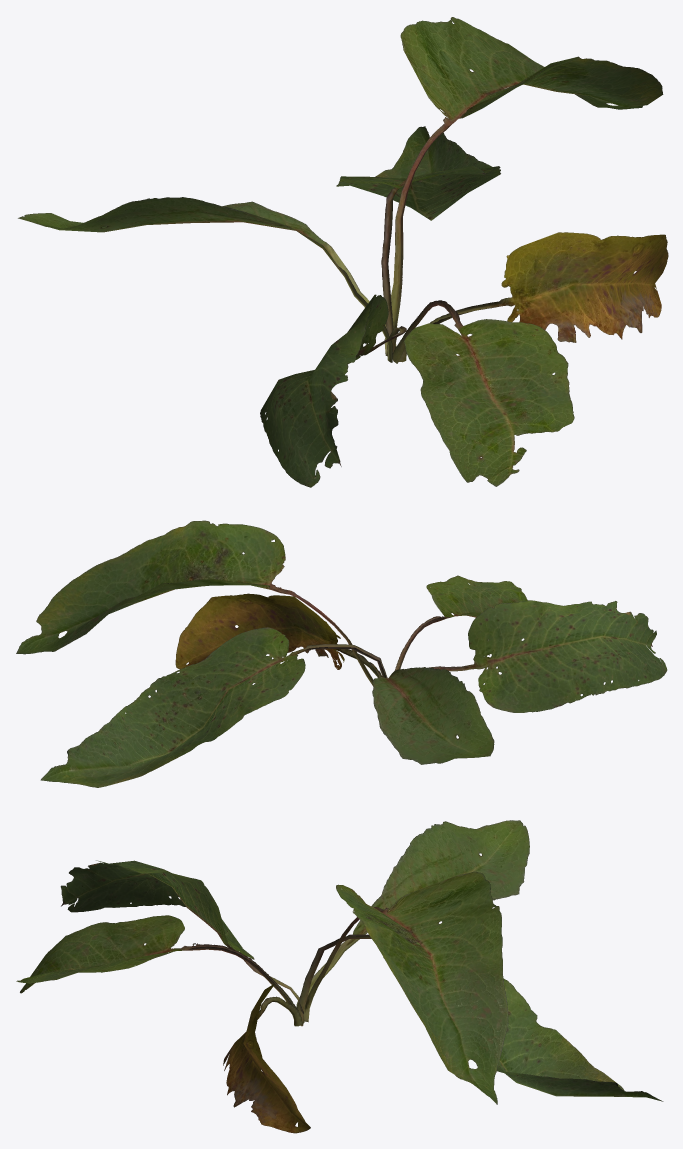
The model's file is weed_plant_02_b_LOD1.glb.
3 views of the same model, one above another, from view 1: azimuth 30°, elevation 25°; view 2: azimuth 150°, elevation 25°; view 3: azimuth 270°, elevation 25° (orthographic). The views are drawn at different scales.
Visible parts, largest first — view 1: weed_plant_02_b_LOD1__lod0; view 2: weed_plant_02_b_LOD1__lod0; view 3: weed_plant_02_b_LOD1__lod0.
Part boxes in pixels (<box>): weed_plant_02_b_LOD1__lod0: <box>18,17,668,487</box>; weed_plant_02_b_LOD1__lod0: <box>16,520,667,787</box>; weed_plant_02_b_LOD1__lod0: <box>16,820,663,1133</box>.
Size of what is drawn, in the model's own units: 0.1875 by 0.0675 by 0.1981.
1 material, 1 textured.
